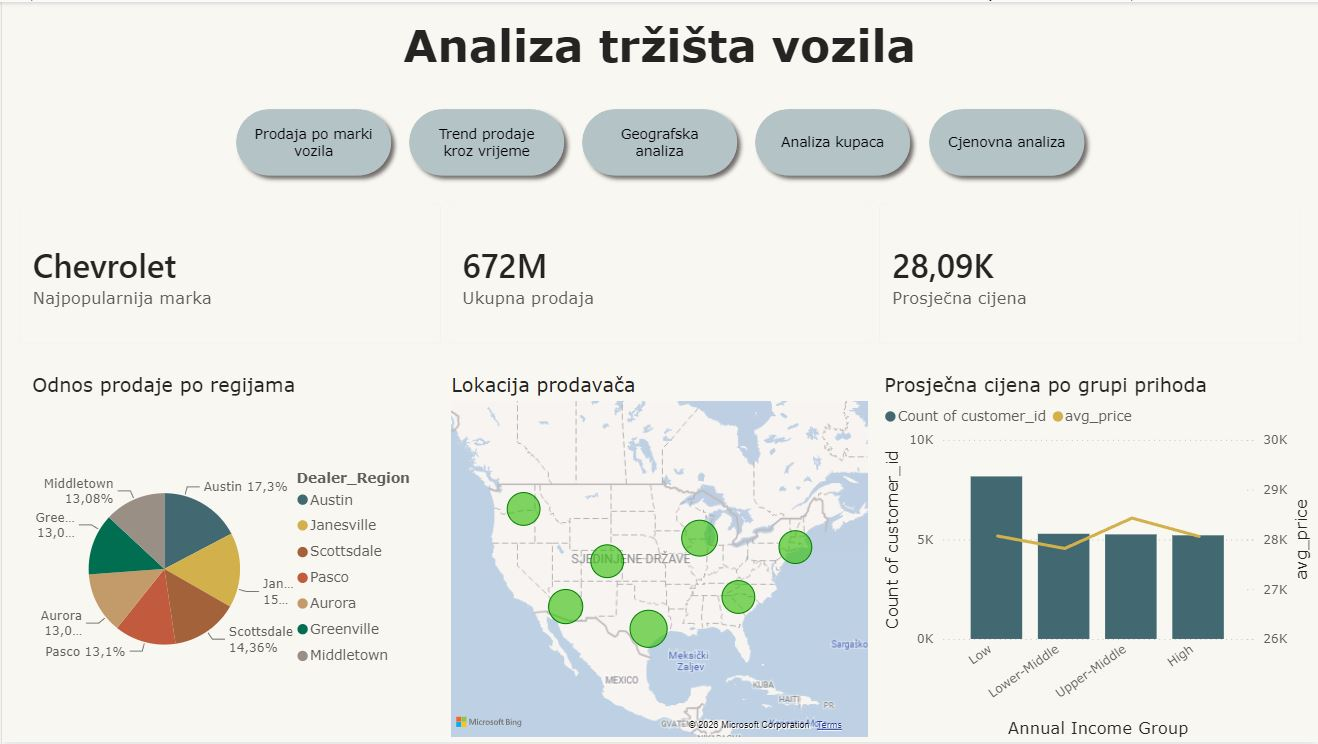

Layout of this report page (visuals, bound fields, positions):
{"tool":"powerbi","page":{"name":"Početna","canvas":[1280,720],"ordinal":0},"visuals":[{"type":"textbox","box":[373.2,10.5,532.1,85.2],"z":0},{"type":"actionButton","box":[218.5,95.6,168.5,82.3],"z":1000},{"type":"actionButton","box":[386.9,95.6,168.5,82.3],"z":2000},{"type":"actionButton","box":[555.4,95.6,168.5,82.3],"z":3000},{"type":"actionButton","box":[723.8,95.6,168.5,82.3],"z":4000},{"type":"map","title":"Lokacija prodavača","fields":{"Category":["dim_dealer.Dealer_Region"],"Size":["fact_sale.Broj prodaja"]},"box":[432,360,415.3,360],"z":5000},{"type":"pieChart","title":"Odnos prodaje po regijama","fields":{"Category":["dim_dealer.Dealer_Region"],"Y":["CountNonNull(fact_sale.F_car_id)"]},"box":[24.6,360,387.2,360],"z":6000},{"type":"lineStackedColumnComboChart","title":"Prosječna cijena po grupi prihoda","fields":{"Category":["dim_customer.Annual Income Group"],"Y":["CountNonNull(fact_sale.customer_id)"],"Y2":["fact_sale.avg_price"]},"box":[853.5,360,426.7,360],"z":7000},{"type":"cardVisual","fields":{"Data":["fact_sale.Najpopularnija marka","fact_sale.Ukupna prodaja","fact_sale.Prosječna cijena"]},"box":[0,178.2,1280.2,172.1],"z":8000},{"type":"actionButton","box":[892.6,95.5,168.7,82.5],"z":9000}]}

Visuals, with their boxes in screenshot pixels (x1, y1, x2, y2), scaled from the page's 1280x720 canvas onto the 1318x744 screenshot:
textbox: (x1=384, y1=11, x2=932, y2=99)
actionButton: (x1=225, y1=99, x2=398, y2=184)
actionButton: (x1=398, y1=99, x2=572, y2=184)
actionButton: (x1=572, y1=99, x2=745, y2=184)
actionButton: (x1=745, y1=99, x2=919, y2=184)
"Lokacija prodavača" map: (x1=445, y1=372, x2=872, y2=743)
"Odnos prodaje po regijama" pieChart: (x1=25, y1=372, x2=424, y2=743)
"Prosječna cijena po grupi prihoda" lineStackedColumnComboChart: (x1=879, y1=372, x2=1317, y2=743)
cardVisual - fact_sale.Najpopularnija marka x fact_sale.Ukupna prodaja: (x1=0, y1=184, x2=1317, y2=362)
actionButton: (x1=919, y1=99, x2=1093, y2=184)
